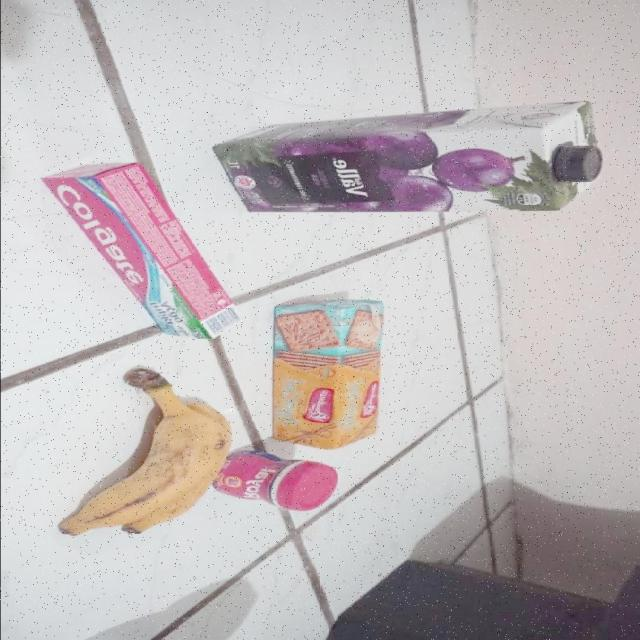Banana: (57, 361, 226, 537)
Cracker: (270, 298, 382, 449)
Toothpaste: (39, 161, 242, 346)
Yeast: (224, 450, 338, 509)
